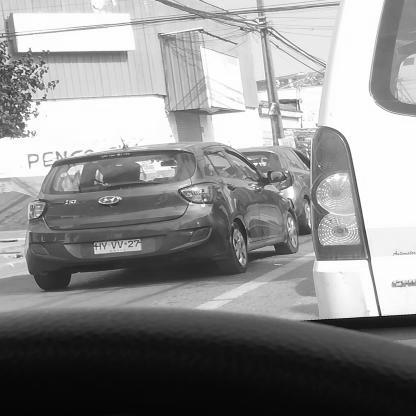Patente: (90, 235, 144, 258)
